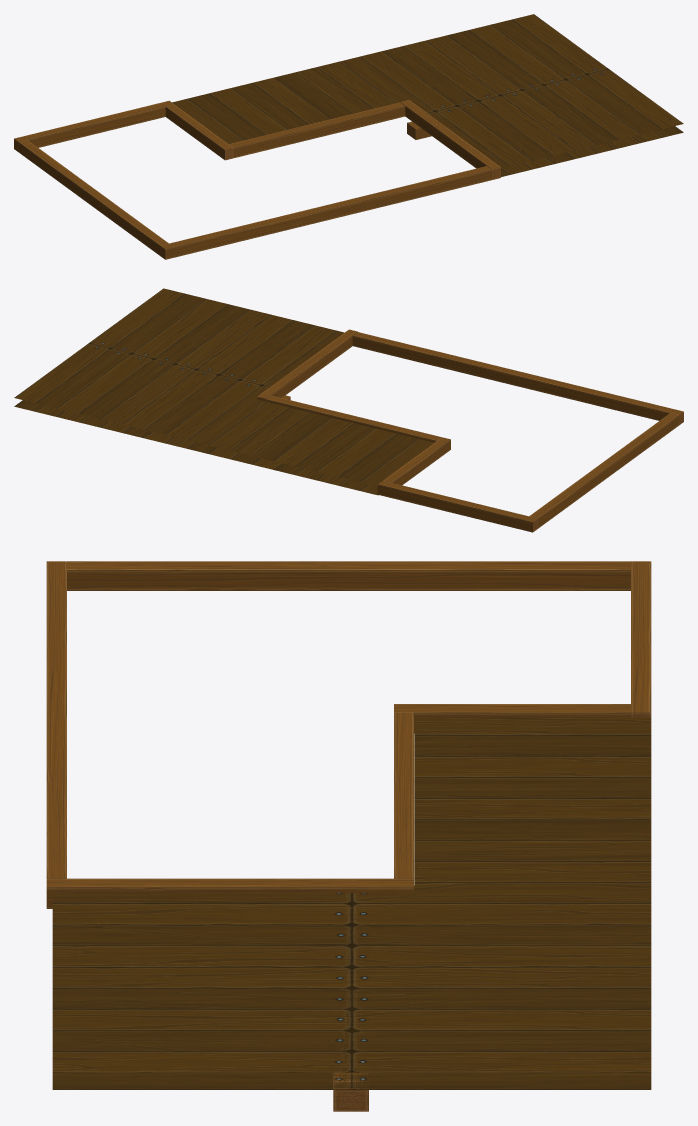
The model's file is SM_House_Floor_5x4_LargeHatch.fbx.
3 renders of one model, top to bottom at view 1: azimuth 30°, elevation 25°; view 2: azimuth 150°, elevation 25°; view 3: azimuth 270°, elevation 25°, orthographic. The views are drawn at different scales.
Parts seen in each view (by area): view 1: SM_House_Floor_5x4_LargeHatch; view 2: SM_House_Floor_5x4_LargeHatch; view 3: SM_House_Floor_5x4_LargeHatch.
Boxes of the visible parts, x1,y1,x2,y2 form: SM_House_Floor_5x4_LargeHatch: (14,14,683,259); SM_House_Floor_5x4_LargeHatch: (14,288,683,532); SM_House_Floor_5x4_LargeHatch: (46,561,651,1111).
Size of the model in its own units: 10.01 by 0.4117 by 5.05.
